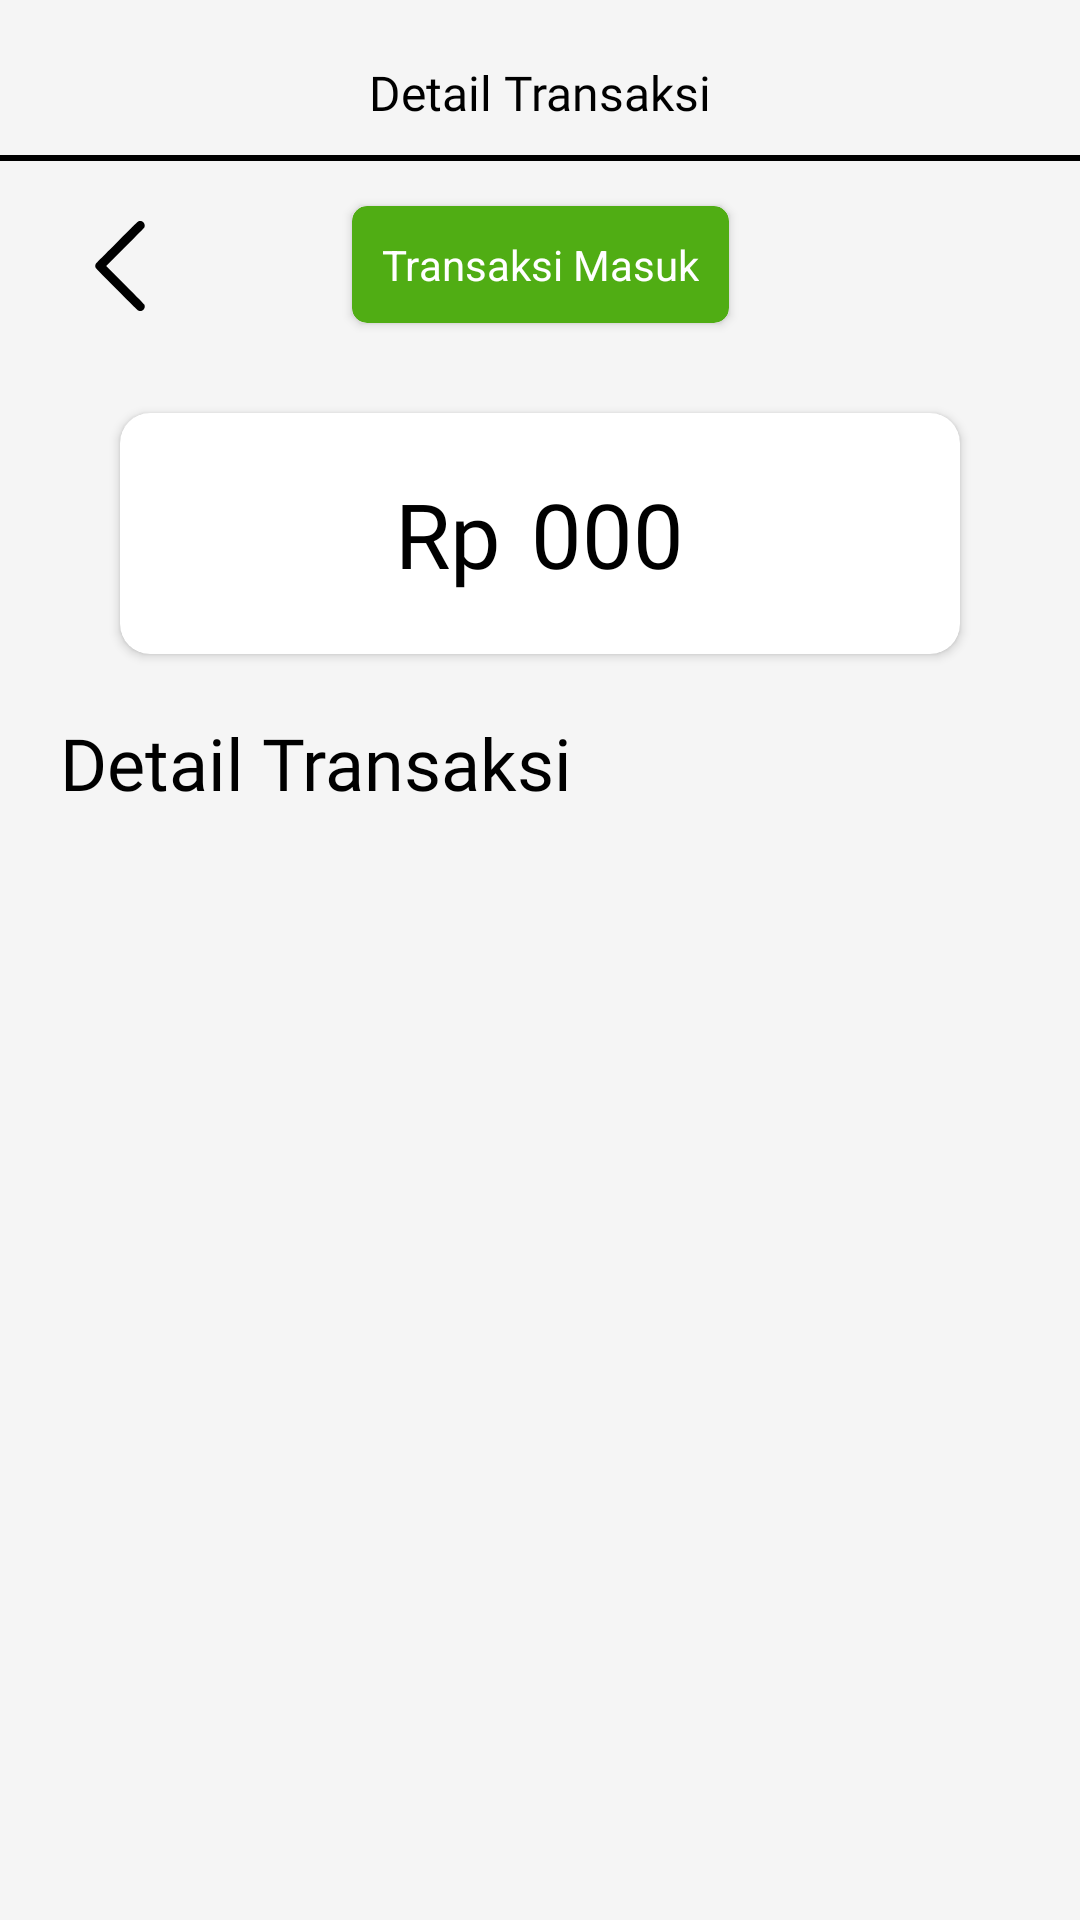

Where to tap for icons on this 1080w x 1920h app screen, as (x,y):
back: (120,266)
